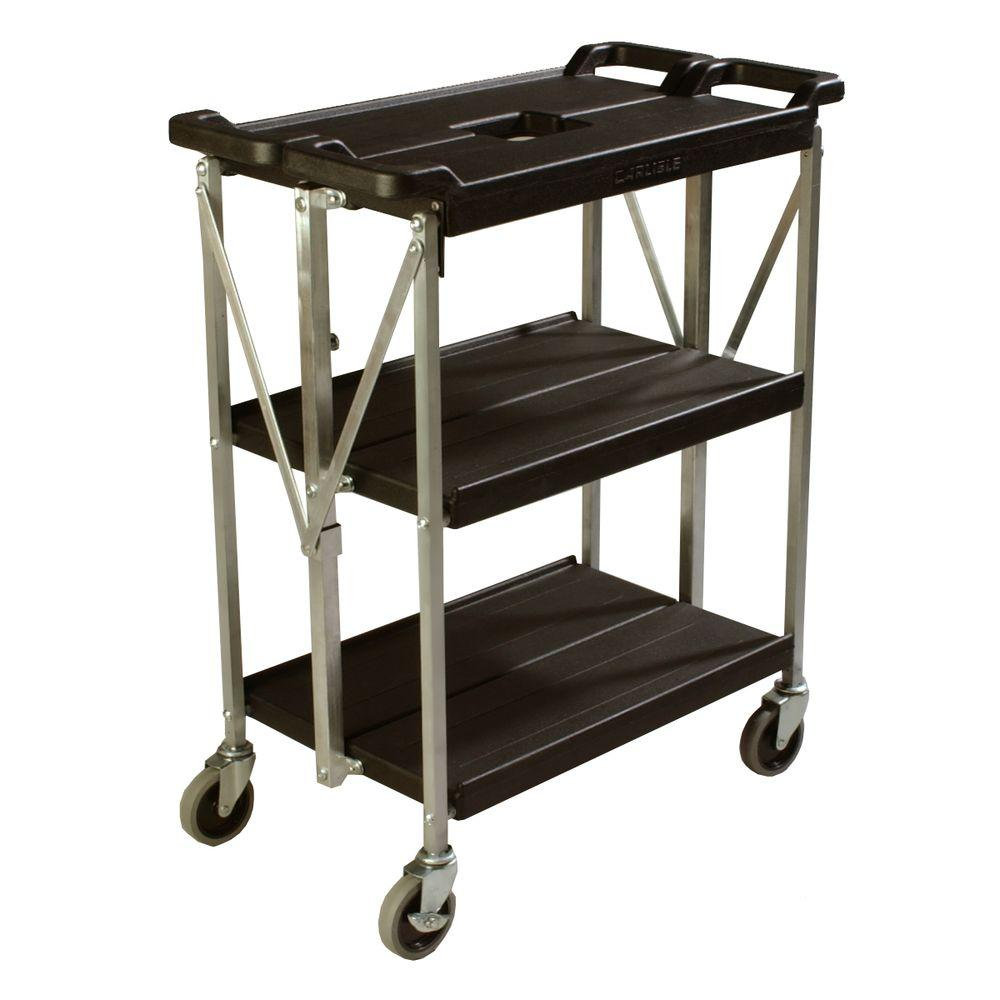Carts: (167, 35, 840, 961)
